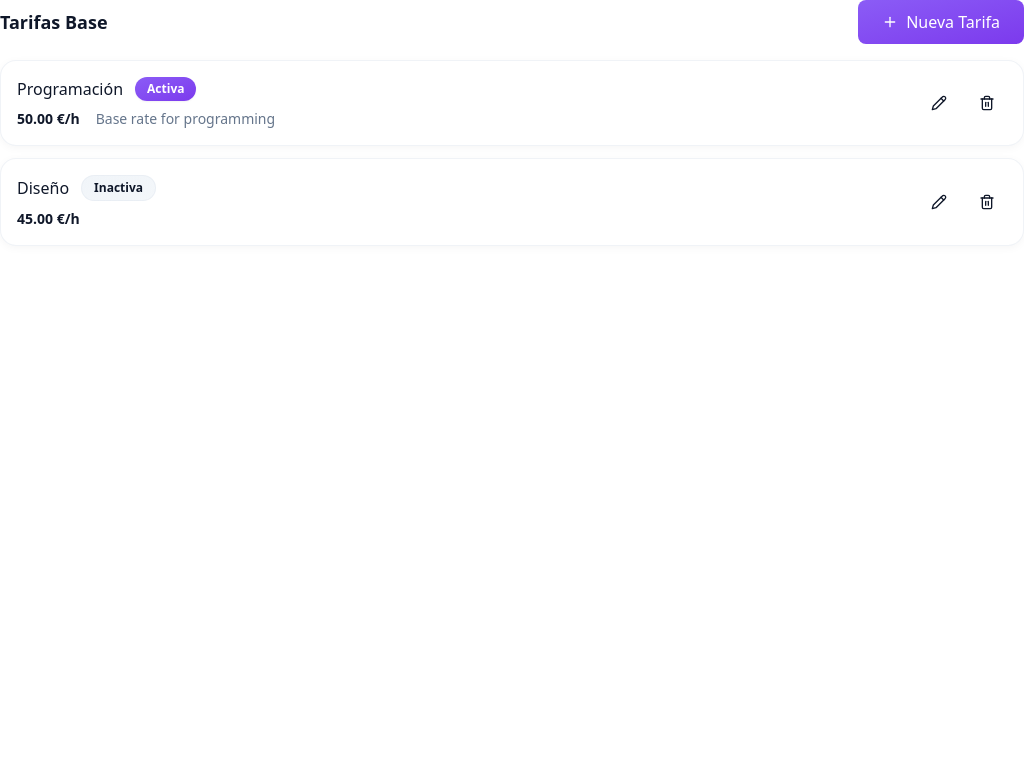
RatesTable › opens create form when Nueva Tarifa button is clicked
This screenshot has width=1024, height=768.
Click the button "Nueva Tarifa".
click(941, 22)  # box x1=858 y1=0 x2=1023 y2=44
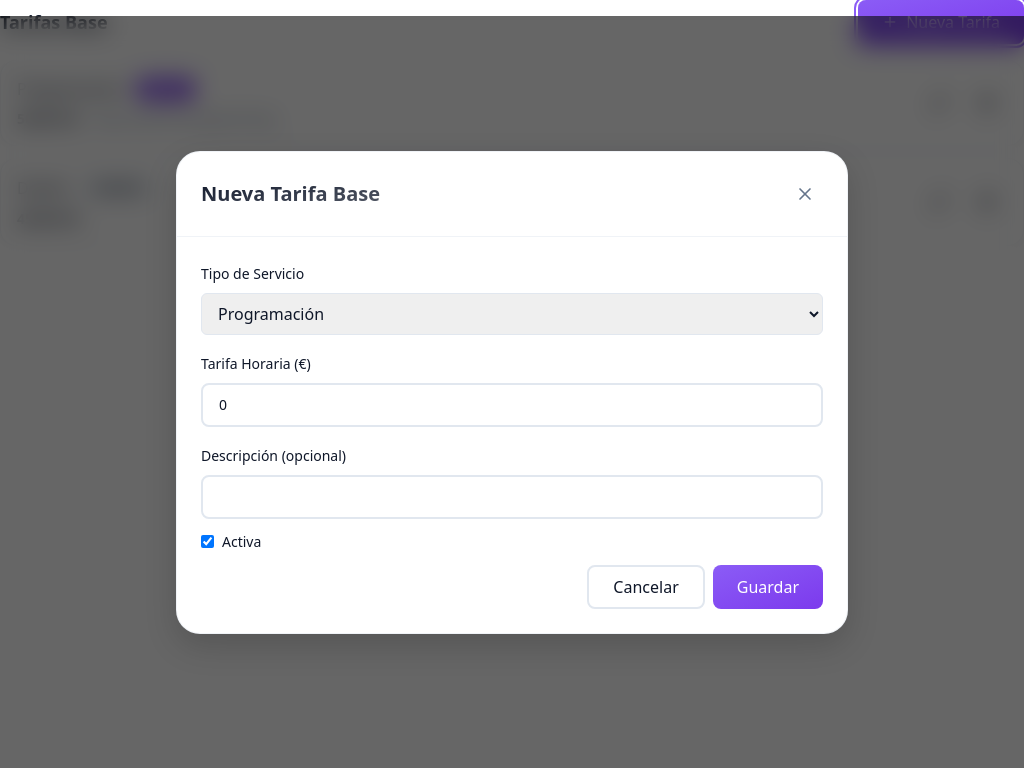
expect the heading "Nueva Tarifa Base" is shown: met, box x1=201 y1=180 x2=380 y2=208
